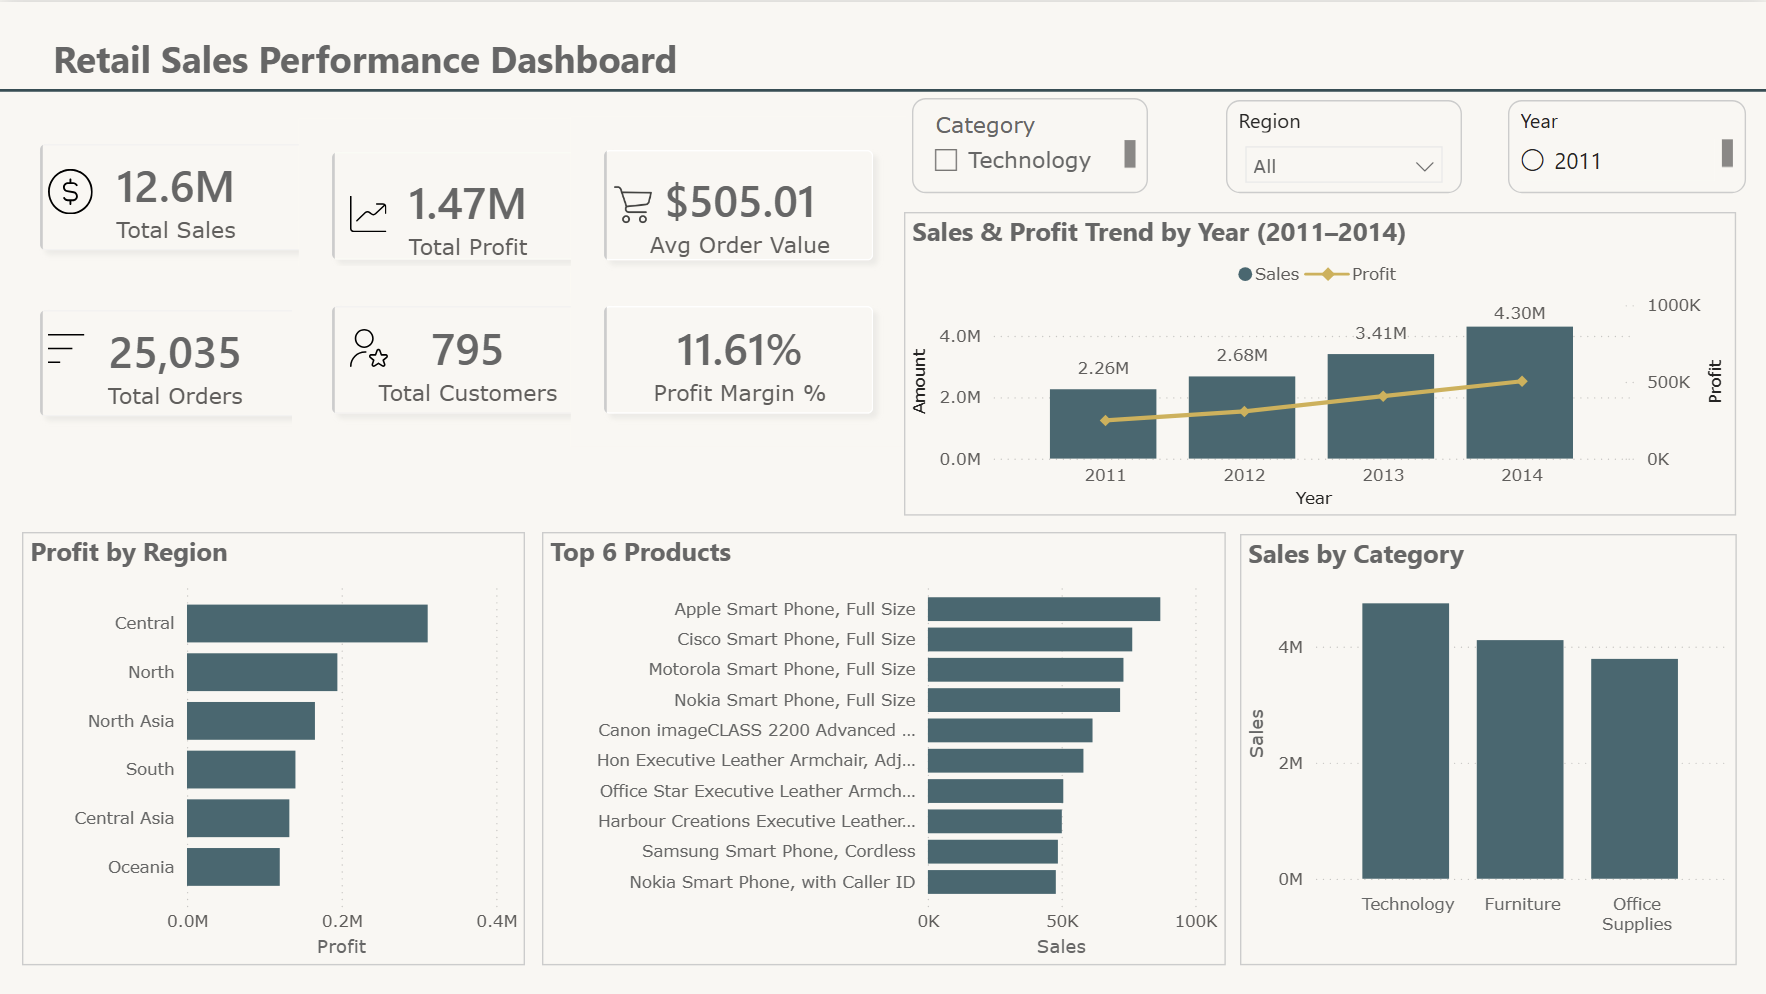

This screenshot's page, from the dashboard's own definition file:
{"tool":"powerbi","page":{"name":"Page 1","canvas":[1280,720],"ordinal":0},"visuals":[{"type":"cardVisual","fields":{"Data":["Sum(superstore.Sales)"]},"box":[0,73.4,253,135.9],"z":0},{"type":"cardVisual","title":"Sum of Profit","fields":{"Data":["Sum(superstore.Profit)"]},"box":[212.2,79.6,253.1,136.7],"z":1000},{"type":"cardVisual","title":"Total Orders","fields":{"Data":["superstore.Total Orders"]},"box":[0,193.8,252.3,135.4],"z":2000},{"type":"cardVisual","fields":{"Data":["Count(superstore.Total Customers)"]},"box":[212.2,191.8,253.1,136.7],"z":3000},{"type":"clusteredColumnChart","title":" Sales by Category","fields":{"Category":["superstore.Category"],"Y":["Sum(superstore.Sales)"]},"box":[898.5,386.2,360,312.3],"z":4000},{"type":"clusteredBarChart","title":" Profit by Region","fields":{"Category":["superstore.Region"],"Y":["Sum(superstore.Profit)"]},"box":[15.4,384.6,364.6,313.8],"z":5000},{"type":"clusteredBarChart","title":"Top 6 Products","fields":{"Category":["superstore.Product.Name"],"Y":["Sum(superstore.Sales)"]},"box":[392.3,384.6,495.4,313.8],"z":6000},{"type":"slicer","title":"Region","fields":{"Values":["superstore.Region"]},"box":[887.7,70.8,170.8,67.7],"z":7000},{"type":"textbox","box":[33.7,18,748.3,52.8],"z":8000},{"type":"image","box":[253.1,132.7,26.5,40.8],"z":9000},{"type":"image","box":[253.5,228.7,27.7,43.6],"z":10000},{"type":"image","box":[34.7,221.8,26.7,57.4],"z":11000},{"type":"image","box":[34.7,116.3,32.7,42.9],"z":12000},{"type":"slicer","fields":{"Values":["superstore.Category"]},"box":[661.5,69.2,170.8,69.2],"z":13000},{"type":"listSlicer","fields":{"Values":["superstore.Year"]},"box":[1092.3,70.8,172.3,67.7],"z":14000},{"type":"shape","box":[0,58.5,1280,12.3],"z":15000},{"type":"cardVisual","fields":{"Data":["superstore.ProfitMargin"]},"box":[408.2,191.8,253.1,136.7],"z":16000},{"type":"cardVisual","fields":{"Data":["superstore.AvgOrderValue"]},"box":[408.2,77.6,253.1,138.8],"z":17000},{"type":"lineStackedColumnComboChart","title":"Sales & Profit Trend by Year (2011–2014)","fields":{"Category":["superstore.Year"],"Y":["Sum(superstore.Sales)"],"Y2":["Sum(superstore.Profit)"]},"box":[654.8,152.9,602.9,220.2],"z":18000},{"type":"image","box":[444.6,124.8,27.7,44.6],"z":19000}]}

Visuals, with their boxes in screenshot pixels (x1, y1, x2, y2), scaled from the page's 1280x720 canvas onto the 1766x994 screenshot:
cardVisual - Sum(superstore.Sales): <bbox>0, 101, 349, 289</bbox>
"Sum of Profit" cardVisual: <bbox>293, 110, 642, 299</bbox>
"Total Orders" cardVisual: <bbox>0, 268, 348, 454</bbox>
cardVisual - Count(superstore.Total Customers): <bbox>293, 265, 642, 454</bbox>
" Sales by Category" clusteredColumnChart: <bbox>1240, 533, 1736, 964</bbox>
" Profit by Region" clusteredBarChart: <bbox>21, 531, 524, 964</bbox>
"Top 6 Products" clusteredBarChart: <bbox>541, 531, 1225, 964</bbox>
"Region" slicer: <bbox>1225, 98, 1460, 191</bbox>
textbox: <bbox>46, 25, 1079, 98</bbox>
image: <bbox>349, 183, 386, 240</bbox>
image: <bbox>350, 316, 388, 376</bbox>
image: <bbox>48, 306, 85, 385</bbox>
image: <bbox>48, 161, 93, 220</bbox>
slicer - superstore.Category: <bbox>913, 96, 1148, 191</bbox>
listSlicer - superstore.Year: <bbox>1507, 98, 1745, 191</bbox>
shape: <bbox>0, 81, 1765, 98</bbox>
cardVisual - superstore.ProfitMargin: <bbox>563, 265, 912, 454</bbox>
cardVisual - superstore.AvgOrderValue: <bbox>563, 107, 912, 299</bbox>
"Sales & Profit Trend by Year (2011–2014)" lineStackedColumnComboChart: <bbox>903, 211, 1735, 515</bbox>
image: <bbox>613, 172, 652, 234</bbox>
